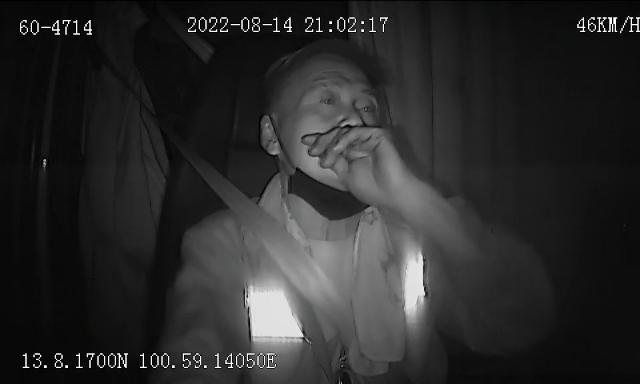Seatbelt: (191, 156, 359, 350)
